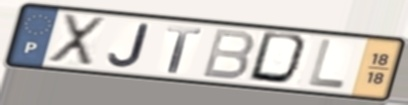B: (198, 27, 256, 82)
D: (245, 30, 314, 88)
J: (105, 22, 151, 70)
L: (305, 38, 348, 91)
T: (165, 25, 204, 75)
X: (45, 12, 108, 69)
